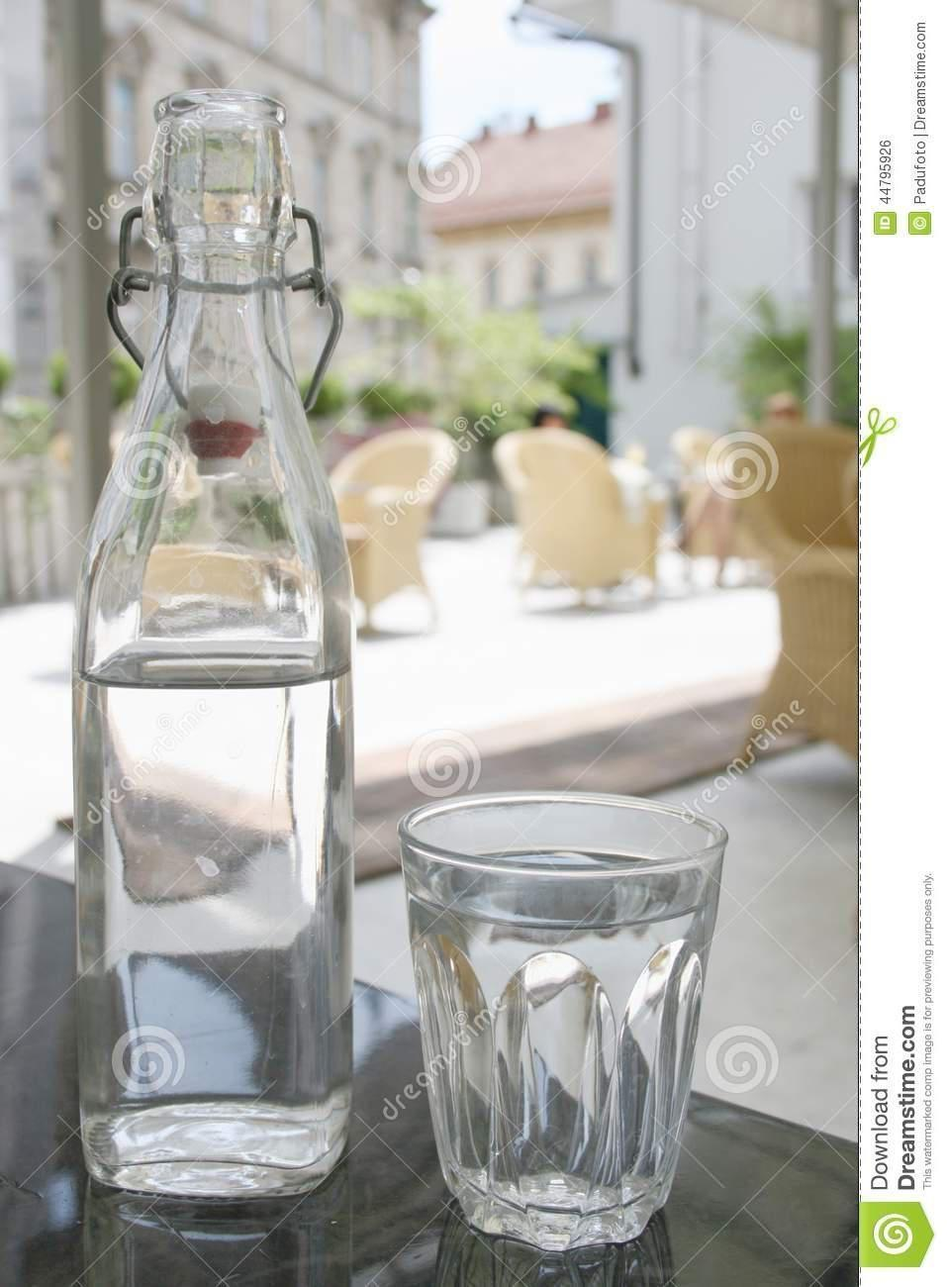bottle-glass: (62, 89, 361, 1223)
glass-normal: (396, 789, 726, 1282)
